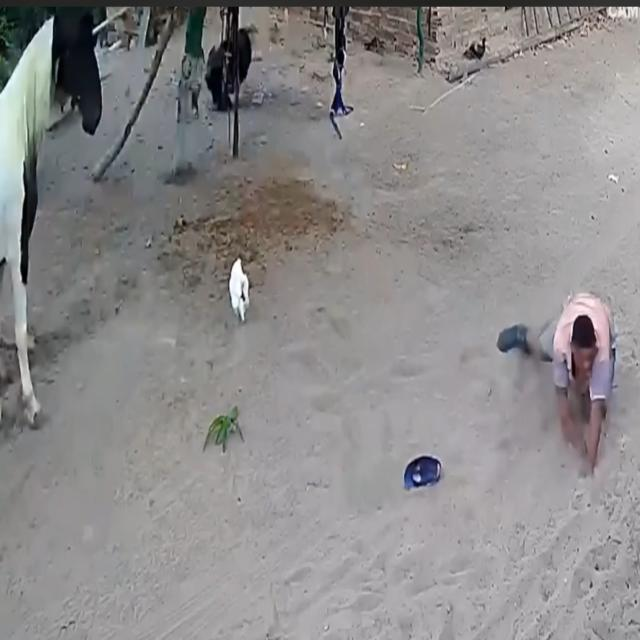fallen: (497, 293, 617, 473)
